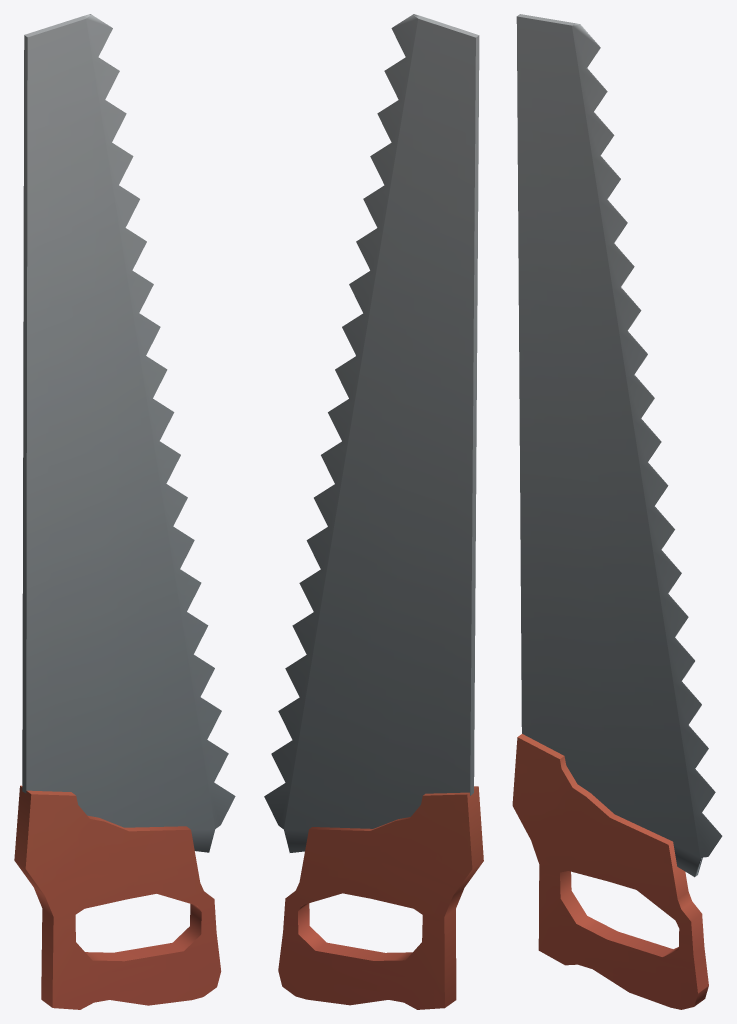
File: Saw.fbx
3 renders of one model, left to right at view 1: azimuth 30°, elevation 25°; view 2: azimuth 150°, elevation 25°; view 3: azimuth 330°, elevation 25°, orthographic. The views are drawn at different scales.
Visible parts, largest first — view 1: Saw; view 2: Saw; view 3: Saw.
Boxes of the visible parts, x1,y1,x2,y2 form: Saw: (14, 14, 235, 1009); Saw: (264, 14, 483, 1009); Saw: (512, 14, 722, 1009).
Size of the model in its own units: 19.33 by 1.93 by 86.48.
